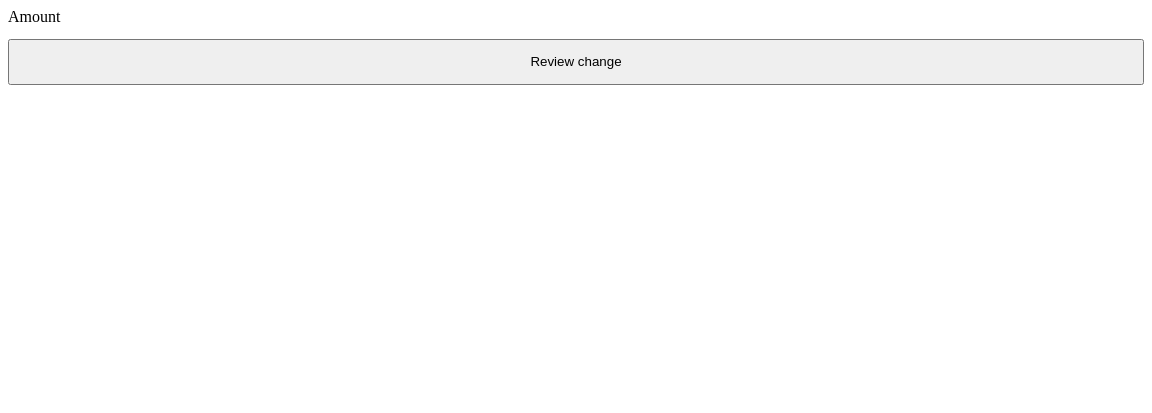
Test case: compact fund swap review › handles preparation failures without leaving a locked pending action
What coordinates should you click on to do the following:
click the button "Review change"
I would click on:
 (576, 62)
Its box is [8,39,1144,85].
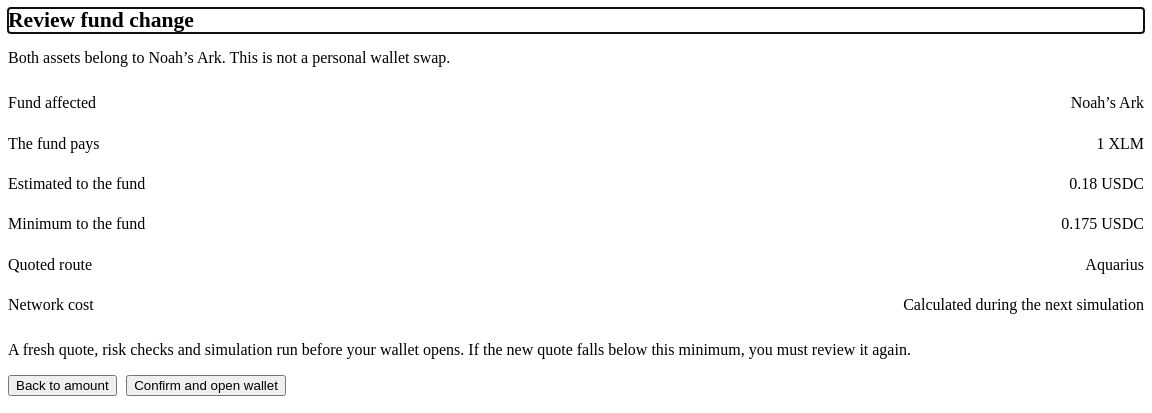
What coordinates should you click on to do the following:
click the button with test id "rebalance-confirm-button"
I would click on:
 (206, 386)
Its box is [126,375,286,396].
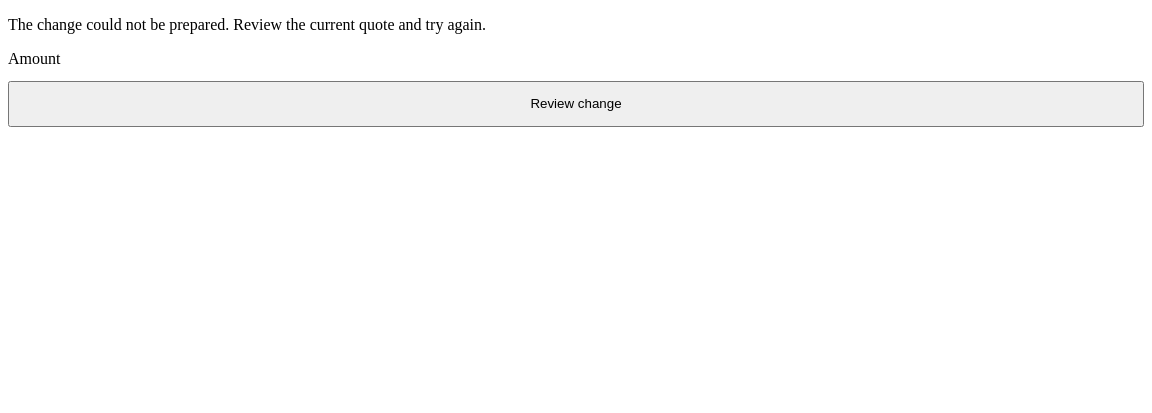
Now the message shows "could not be prepared", box [8,16,486,33]
Now the button "Review change" is enabled, box [8,81,1144,127]
